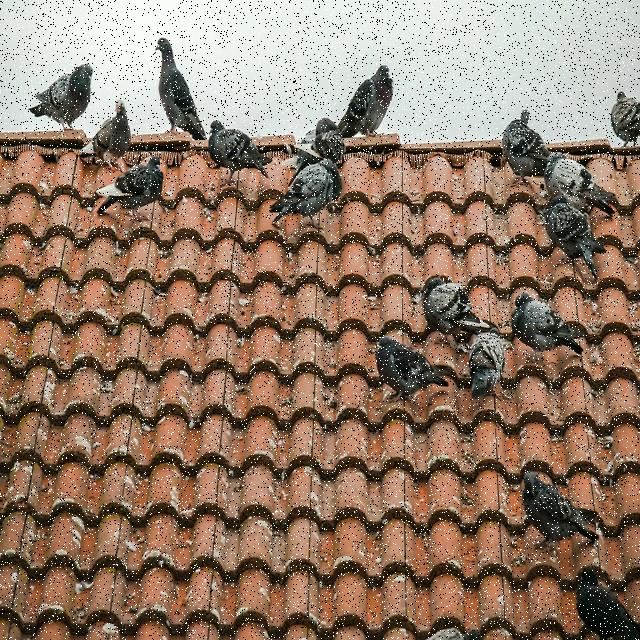bird: (270, 120, 346, 240), (520, 472, 602, 558), (415, 274, 497, 348), (374, 334, 451, 408), (154, 37, 207, 141), (544, 198, 608, 280), (511, 290, 586, 358), (94, 155, 166, 225), (543, 151, 619, 217), (574, 565, 640, 640), (28, 62, 94, 134), (206, 119, 274, 185), (336, 64, 394, 140), (500, 108, 552, 188), (78, 99, 132, 172), (467, 328, 506, 401), (610, 90, 640, 149)
